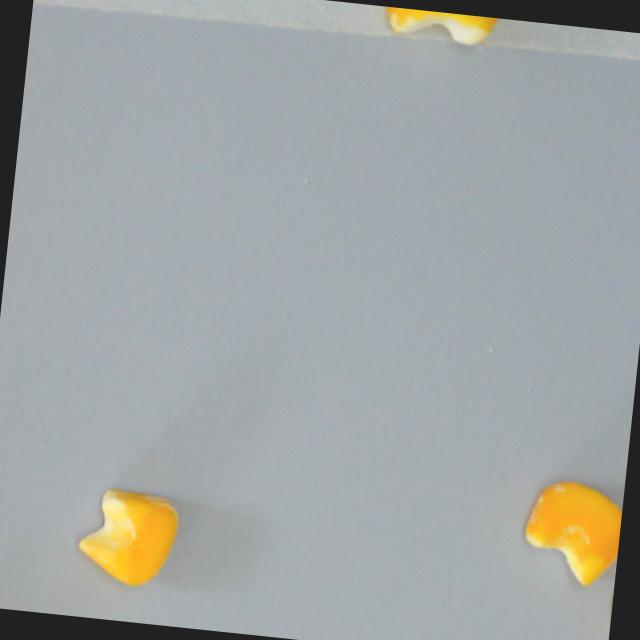pelicula: (519, 474, 625, 589), (73, 486, 183, 590)
